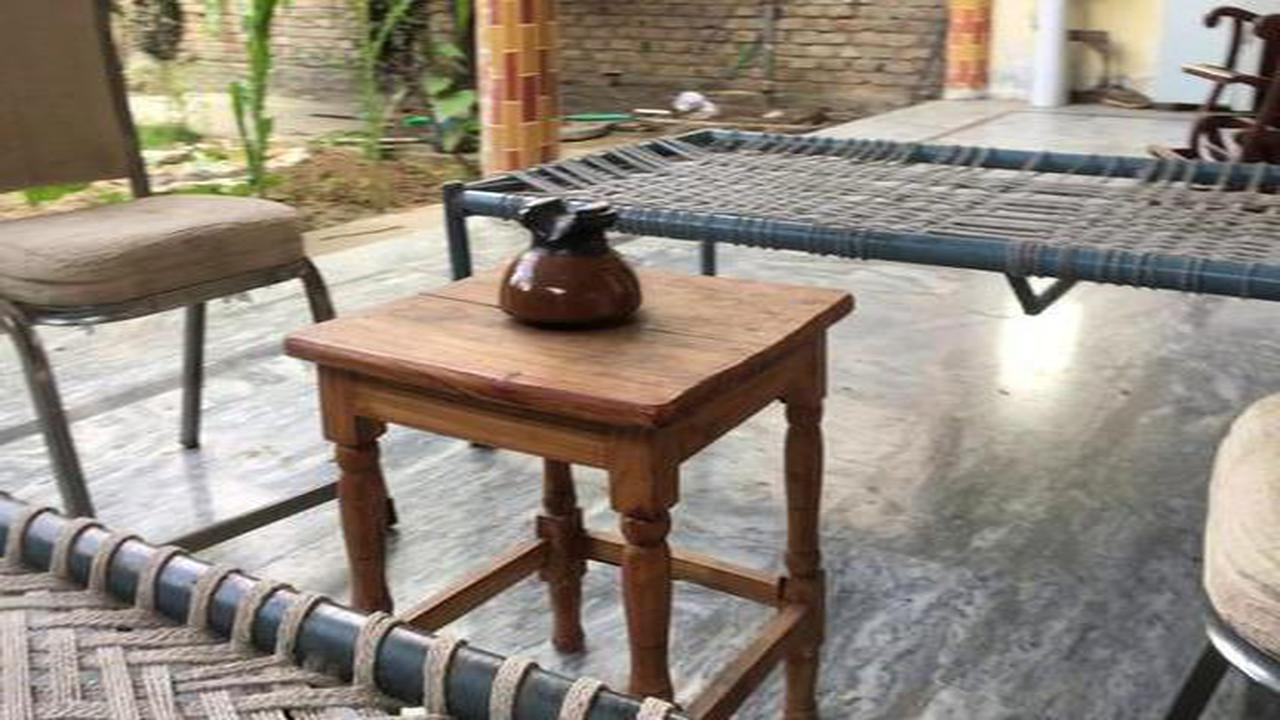insulator_pin: (477, 177, 677, 343)
